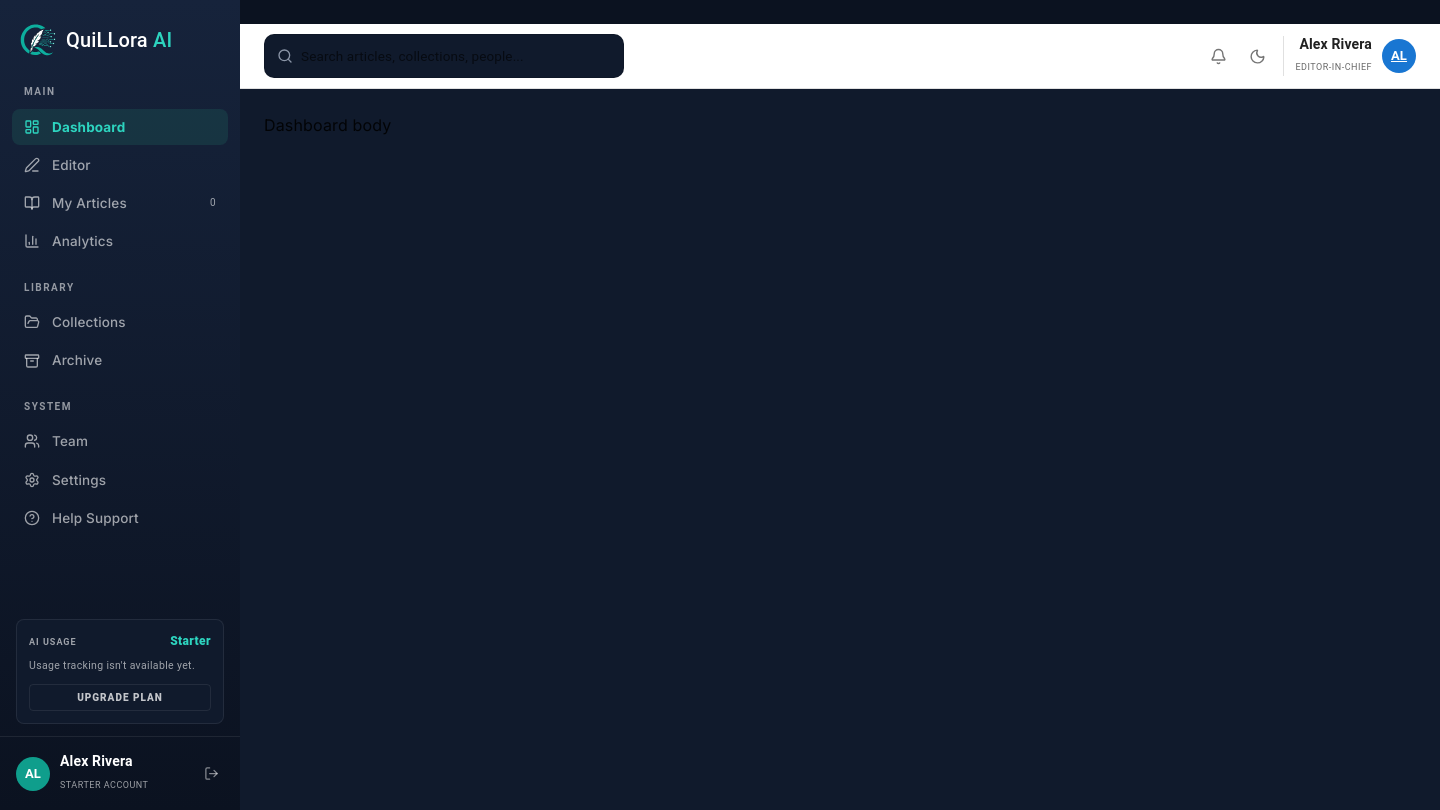
Test: topbar search › keeps the query visible in the box after submitting
Type "typography" into the field named "search articles, collections and people" at (456, 56), box [301,42,611,70]
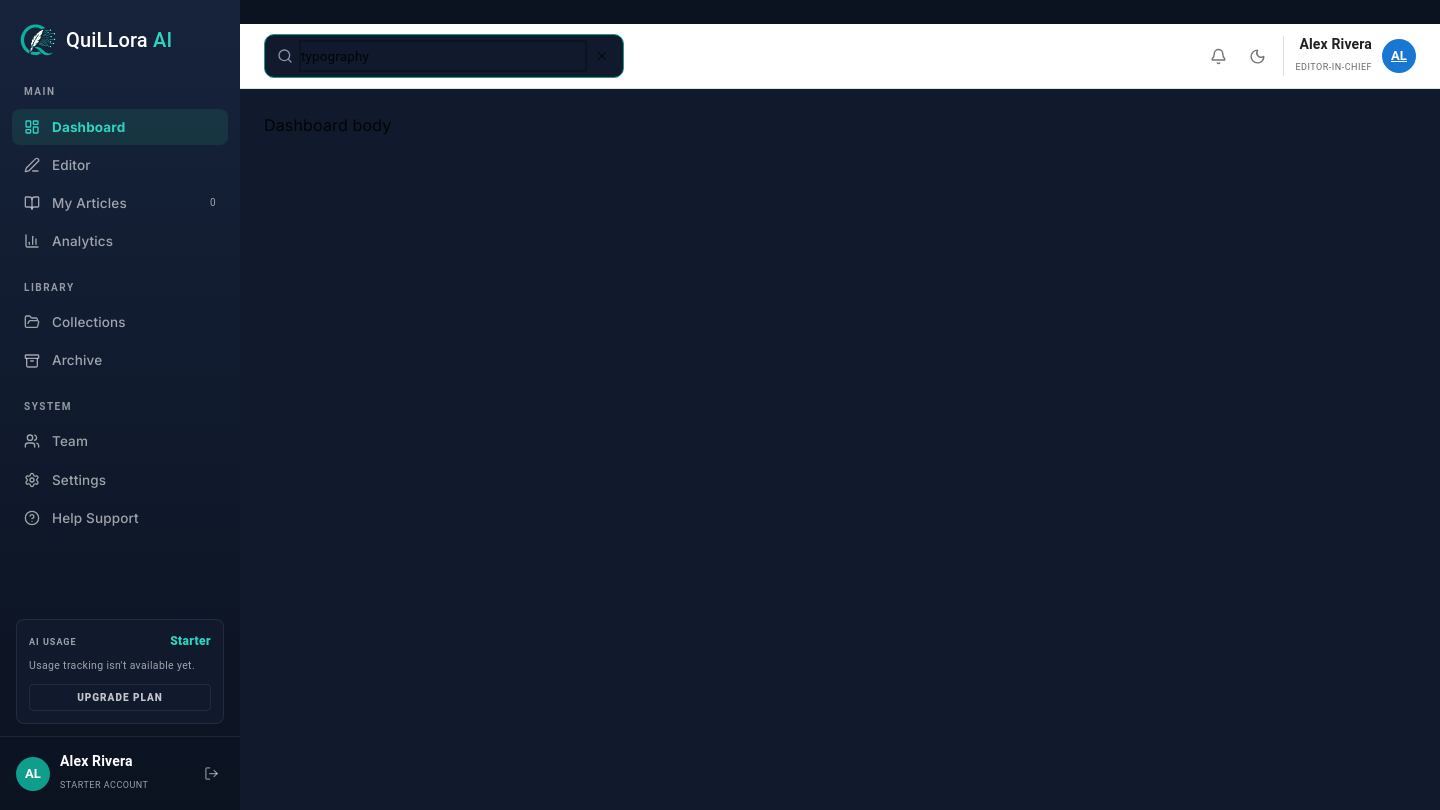
Press Enter
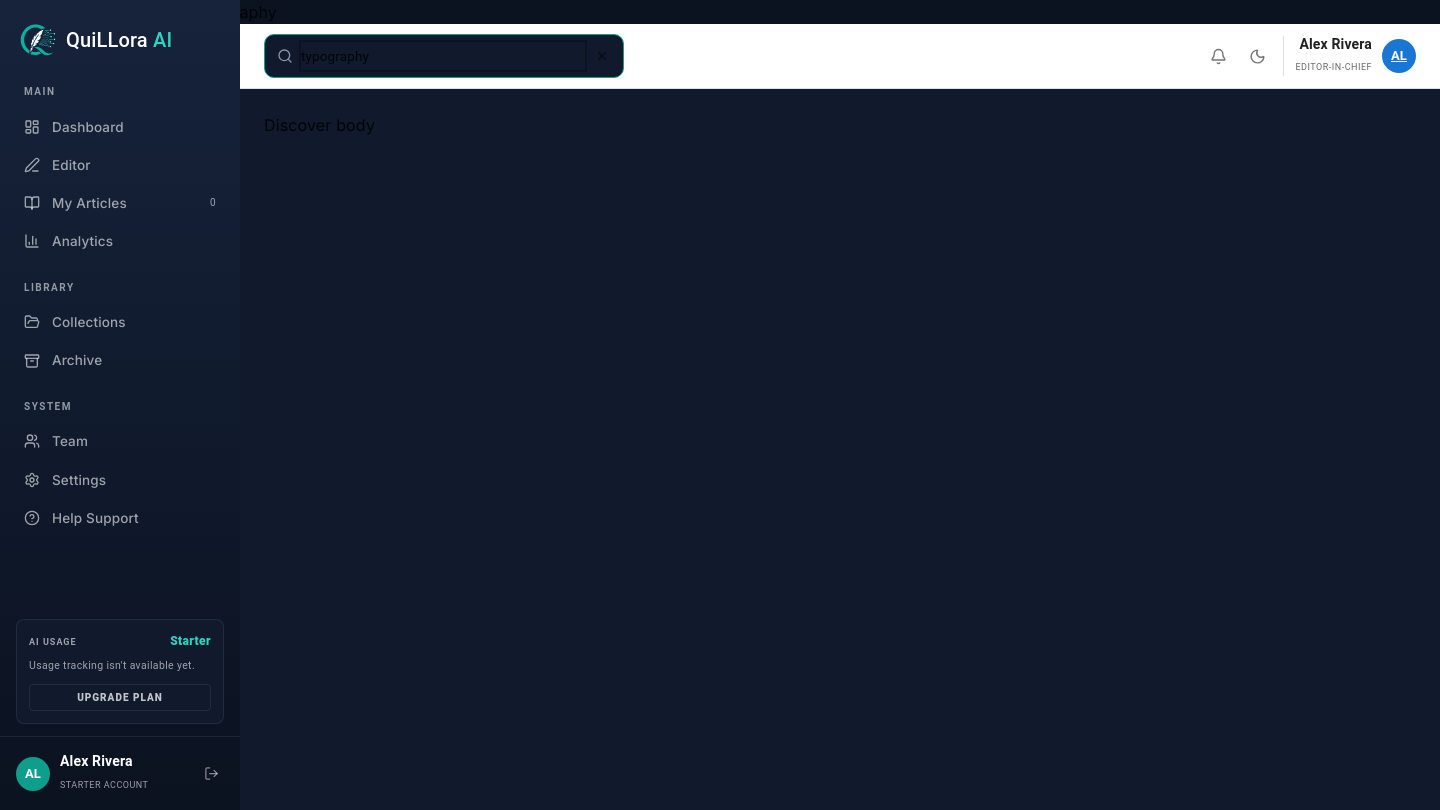
Expected: the text with test id "location" shows "q=typography", [0,2,277,22]
